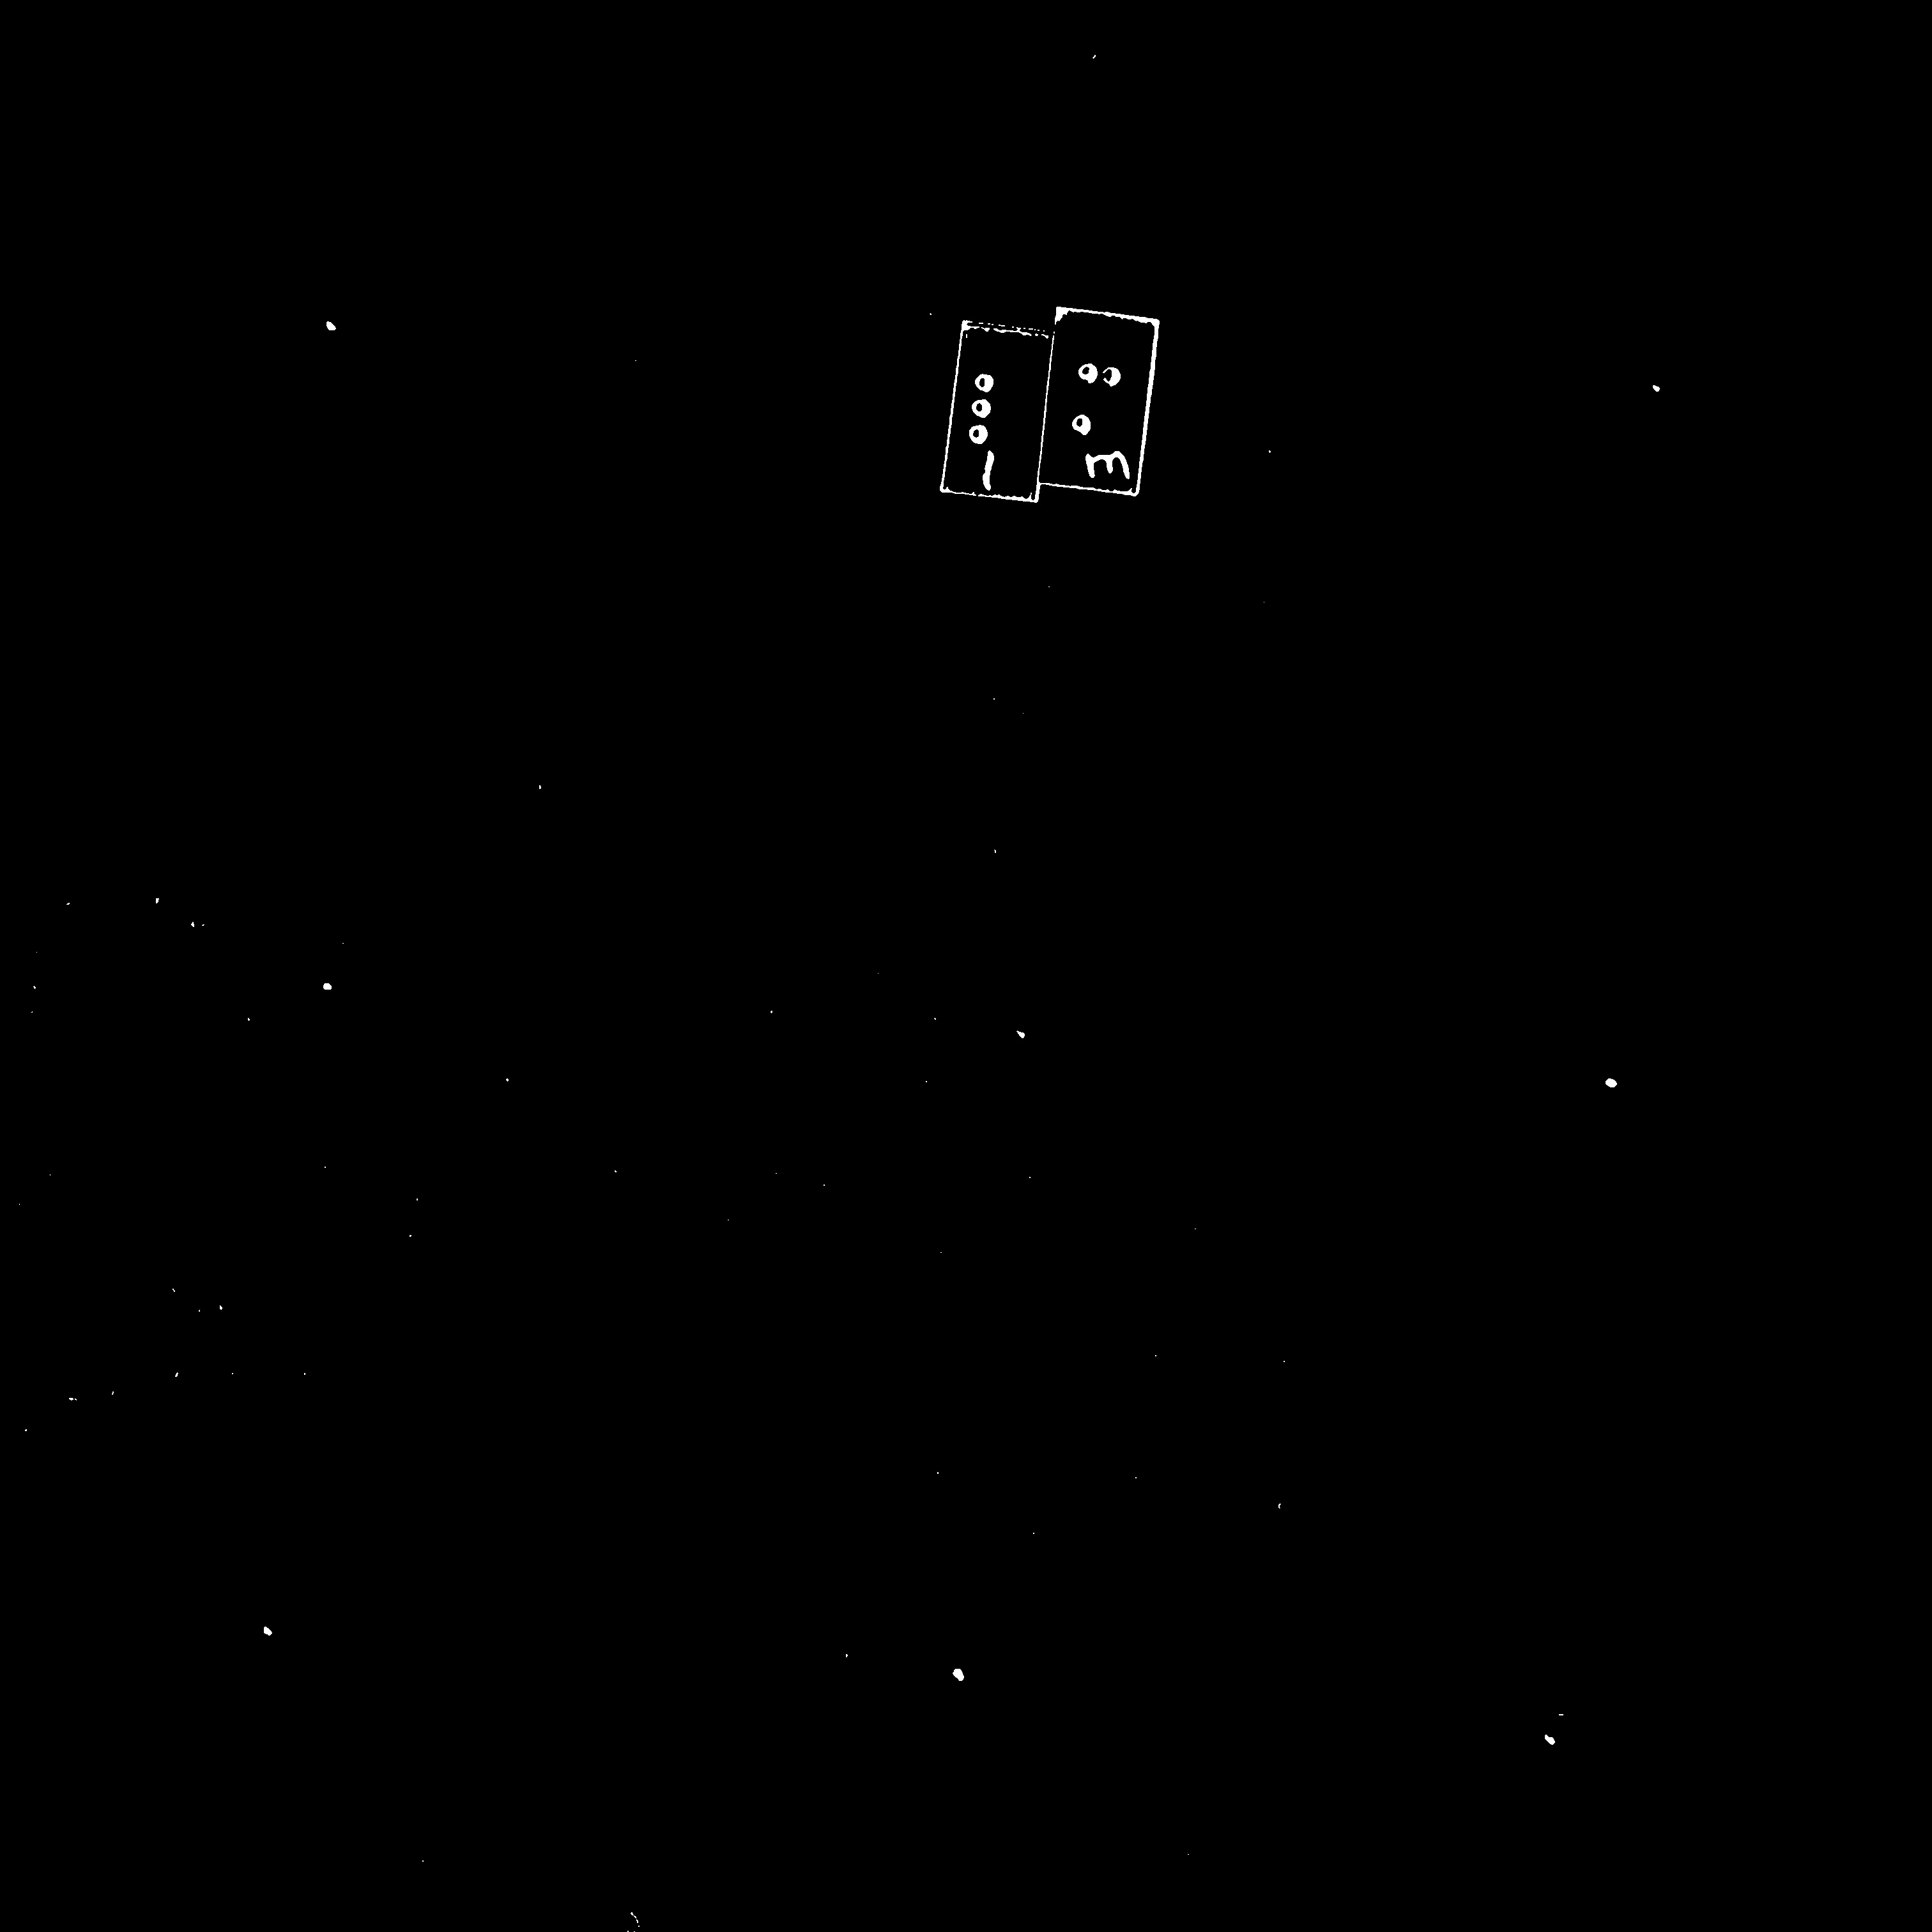l: (958, 362, 1029, 459)
m: (1068, 355, 1129, 443)
